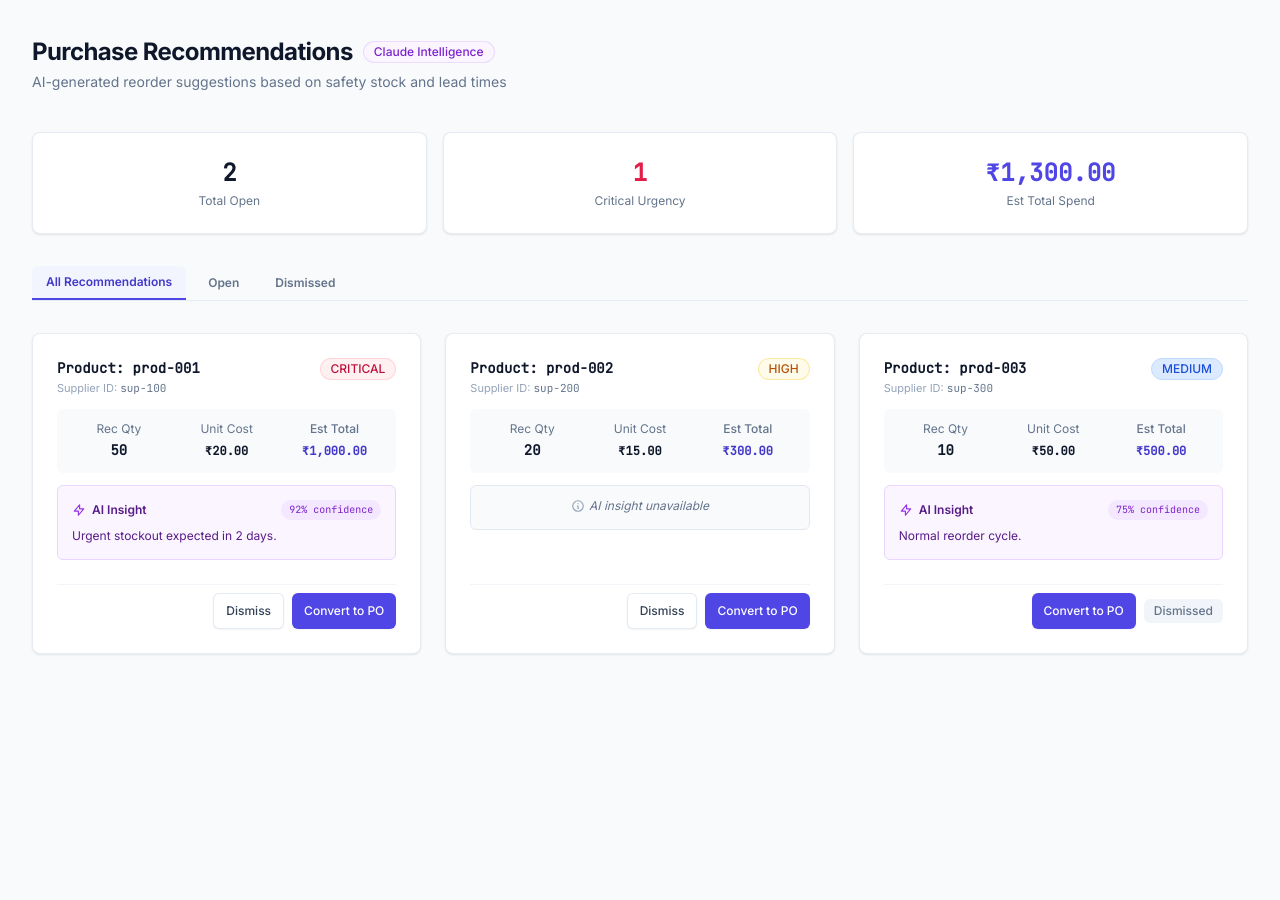
Test: RecommendationListPage › handles tab switching between All, Open, and Dismissed
Expected: the heading "Product: prod-001" is shown, [57,358,200,378]
Expected: the heading "Product: prod-003" is shown, [884,358,1026,378]
Note: Switch to Open tab
What coordinates should you click on to do the following:
click the button "Open"
I would click on:
 (224, 283)
Its box is [194,266,253,300].
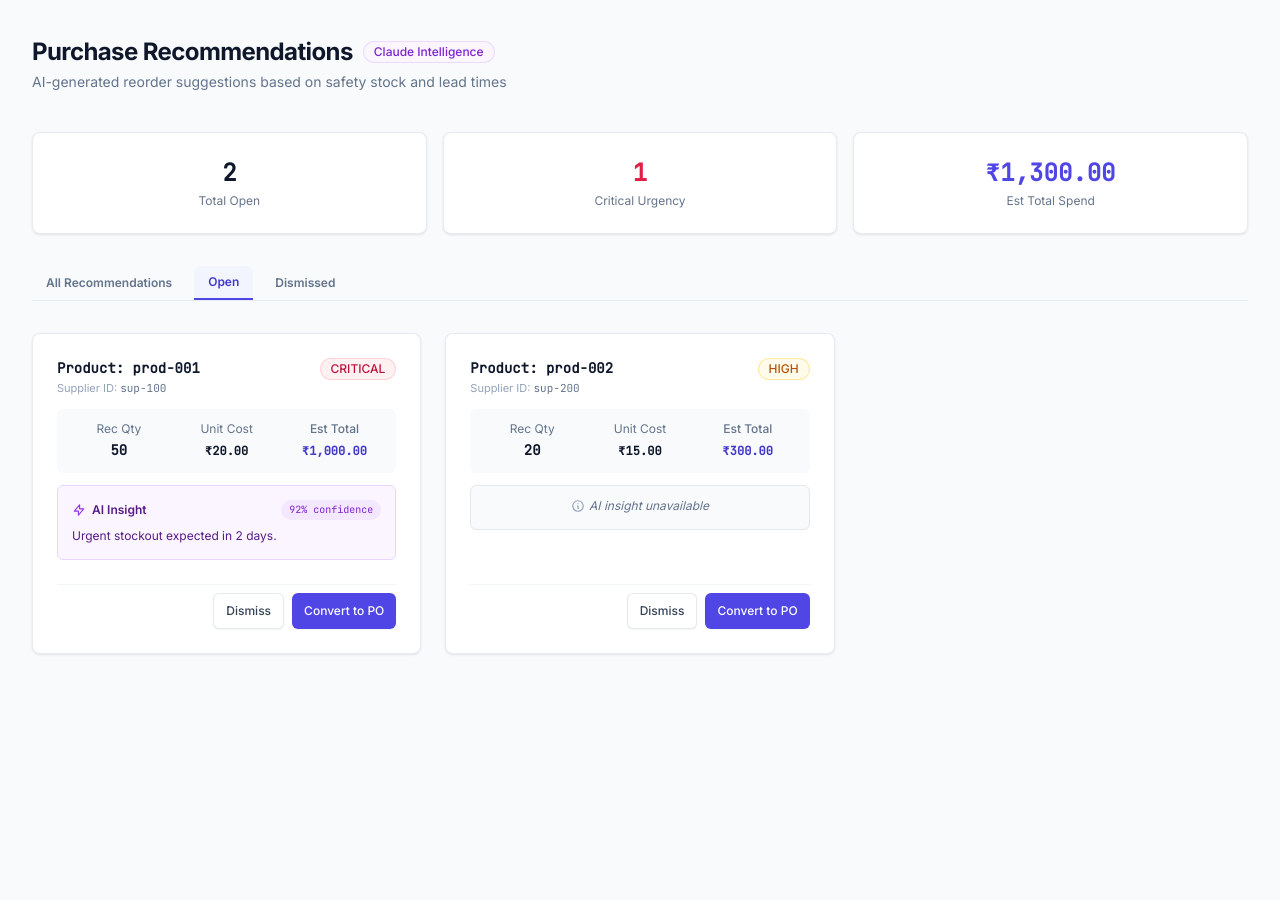
Expected: the heading "Product: prod-001" is shown, [57,358,200,378]
Now the heading "prod-003" is gone
Note: Switch to Dismissed tab
What coordinates should you click on to do the following:
click the button "Dismissed"
I would click on:
 (305, 283)
Its box is [261,266,349,300].
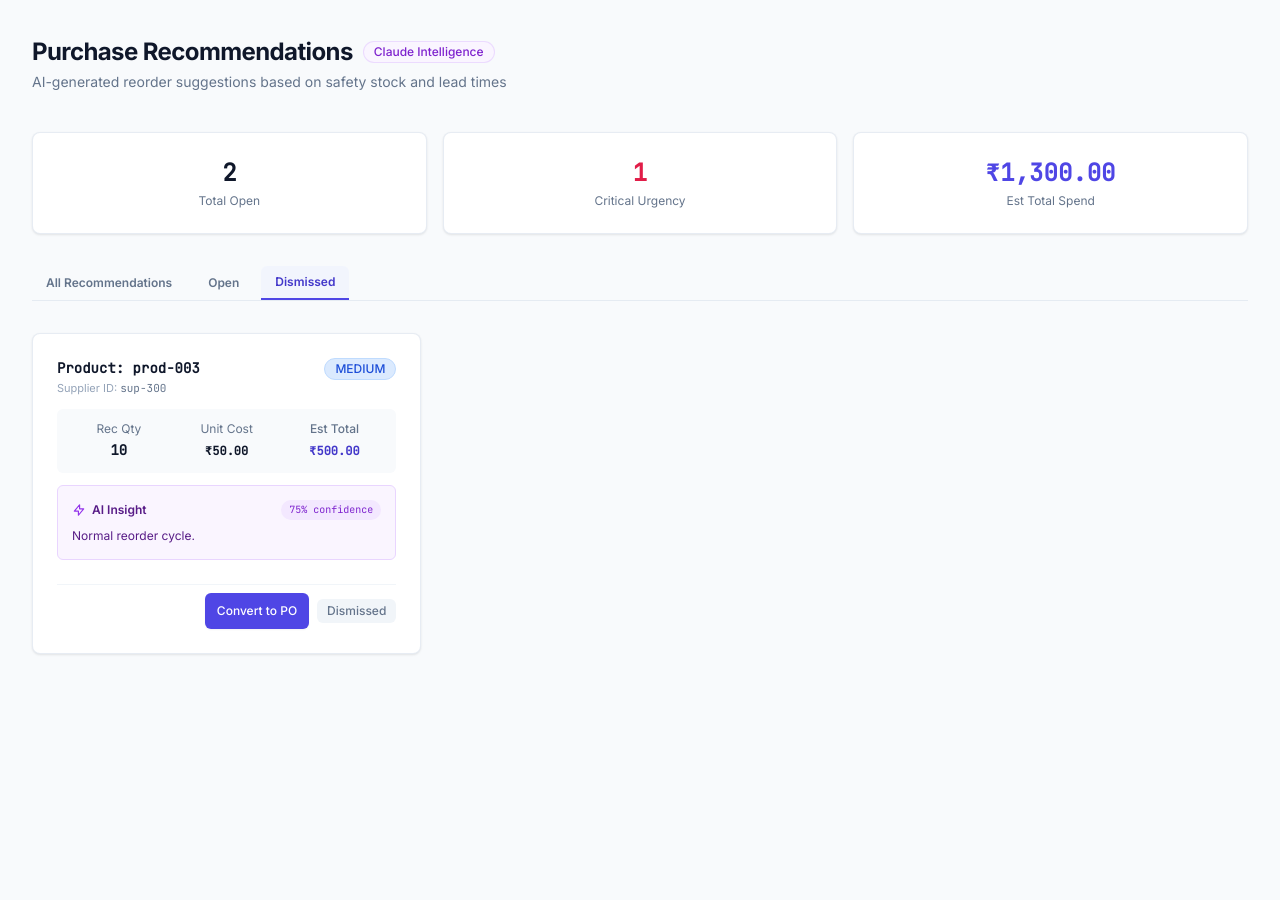
Now the heading "prod-001" is gone
Now the heading "Product: prod-003" is shown, box [57,358,200,378]
